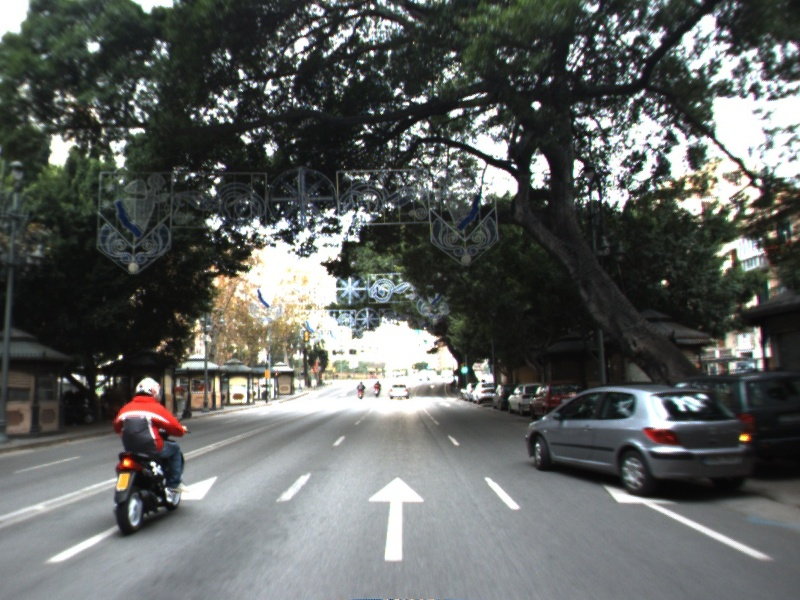STRAIGHT: (42, 471, 220, 566), (599, 480, 779, 563), (364, 473, 427, 564)
